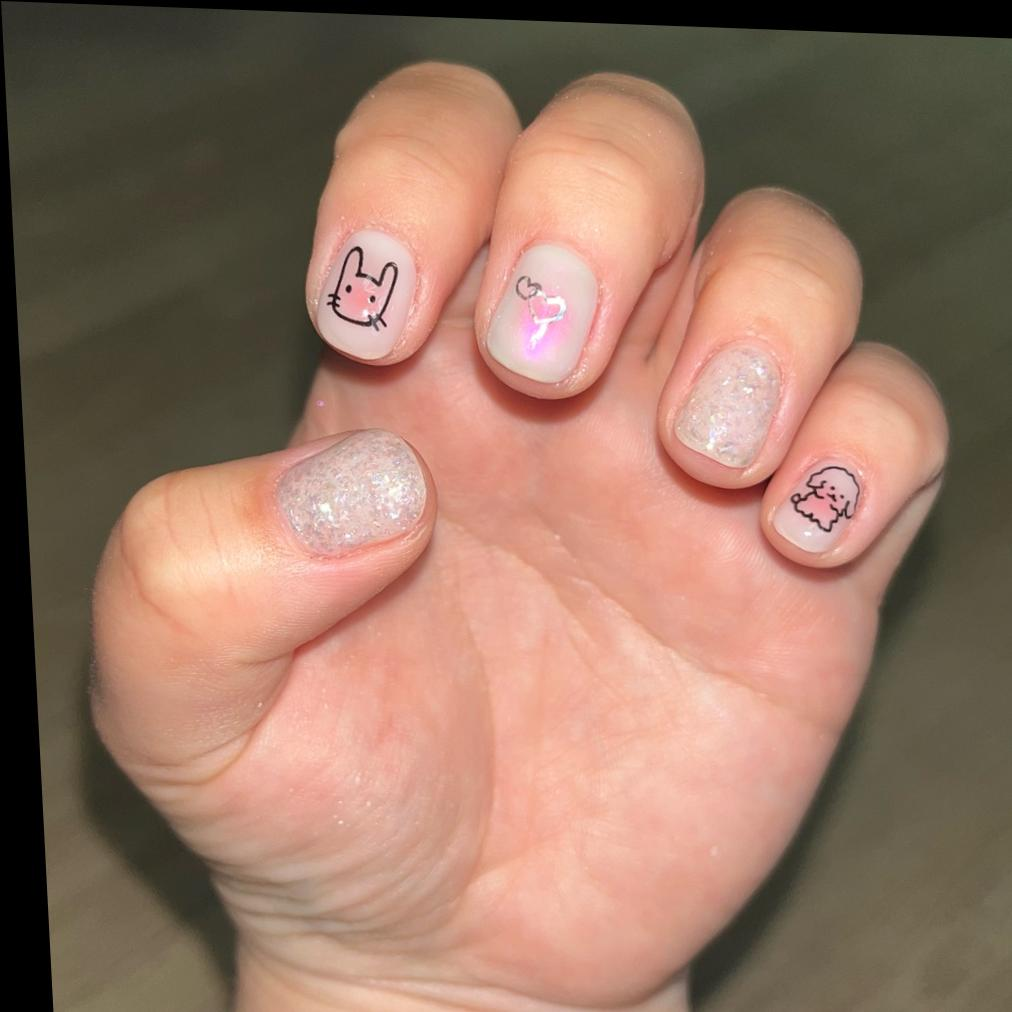nail: (459, 63, 718, 406), (290, 52, 534, 371), (643, 179, 875, 495), (750, 334, 957, 573), (270, 421, 438, 562), (478, 234, 607, 388), (667, 331, 790, 472)
